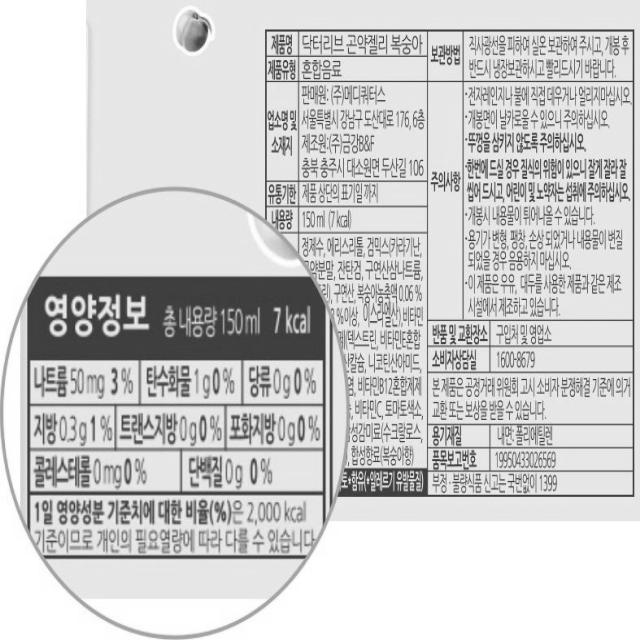Nutrition Label: (18, 266, 332, 583)
